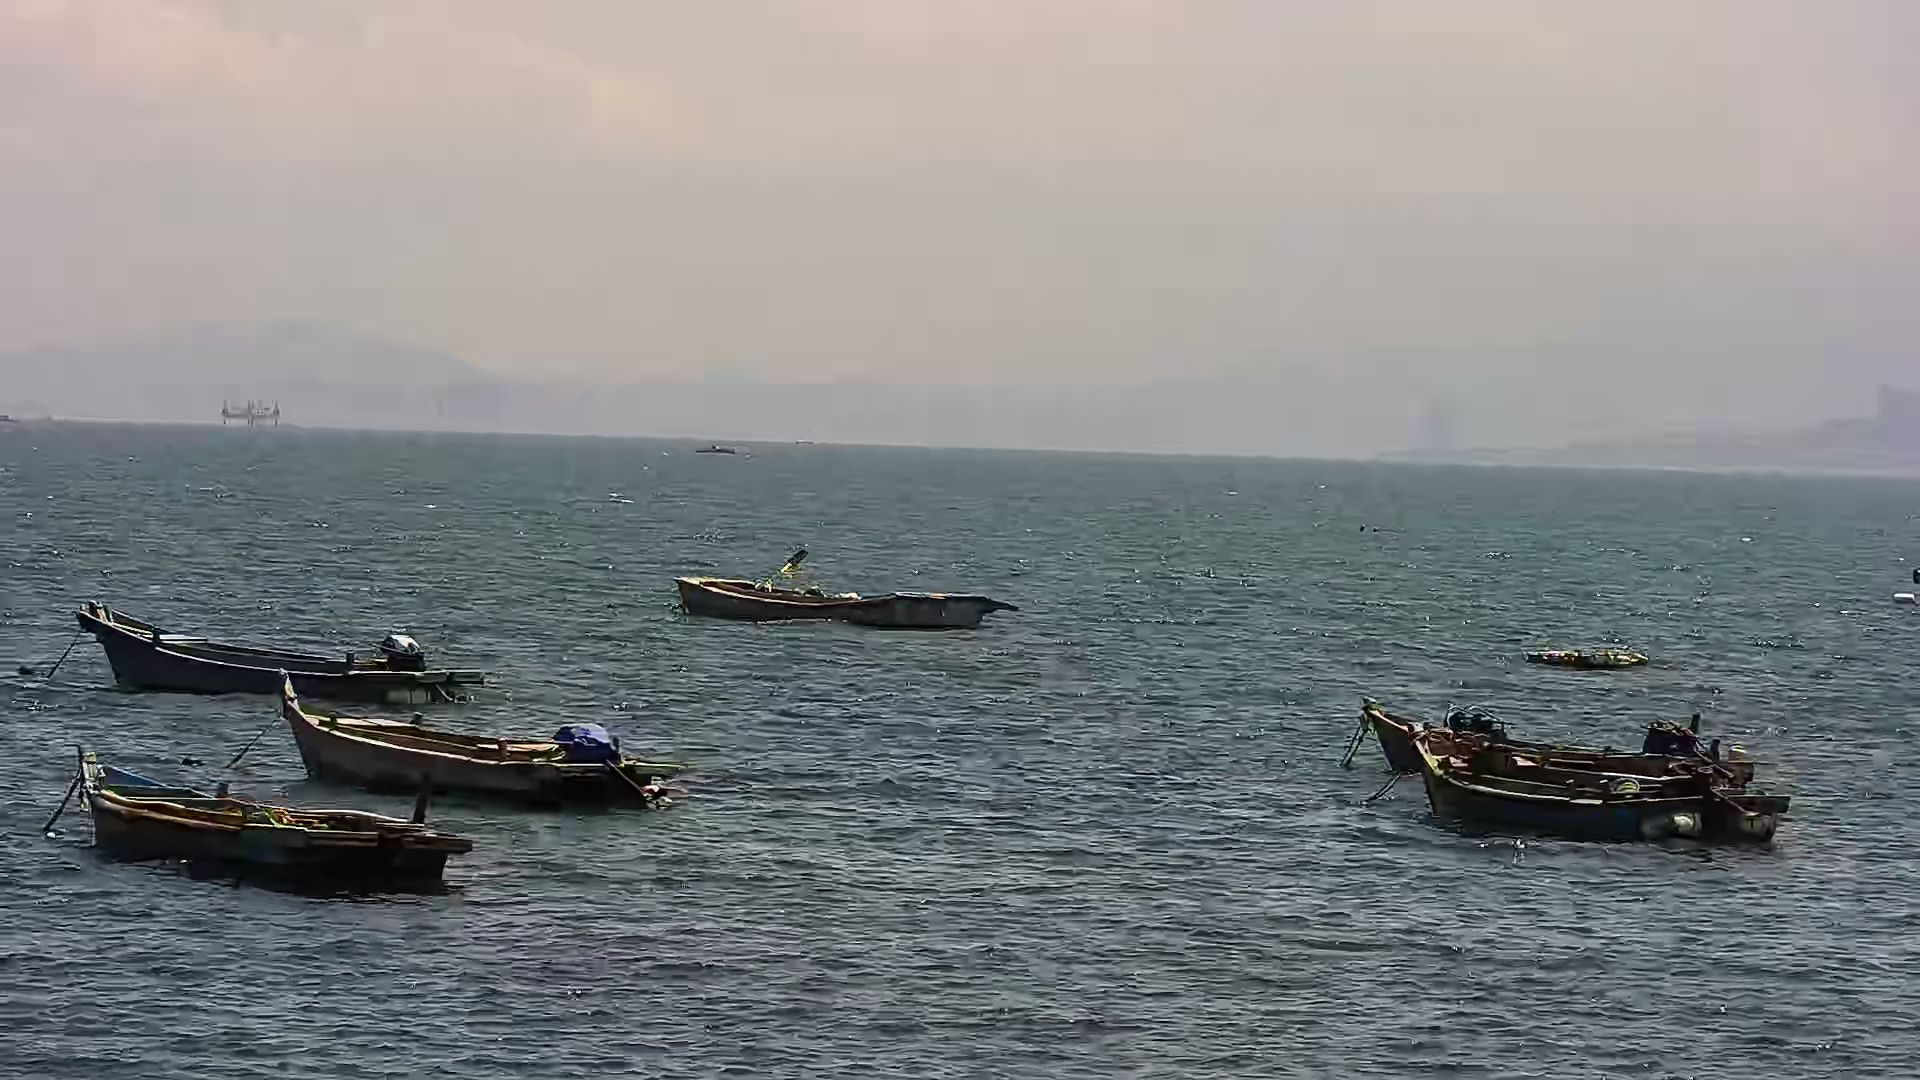boat: (40, 752, 467, 914), (266, 687, 673, 819), (51, 589, 491, 709), (1414, 744, 1803, 856), (1350, 691, 1772, 793), (662, 545, 1026, 645)
rubbish: (1519, 632, 1656, 679)
